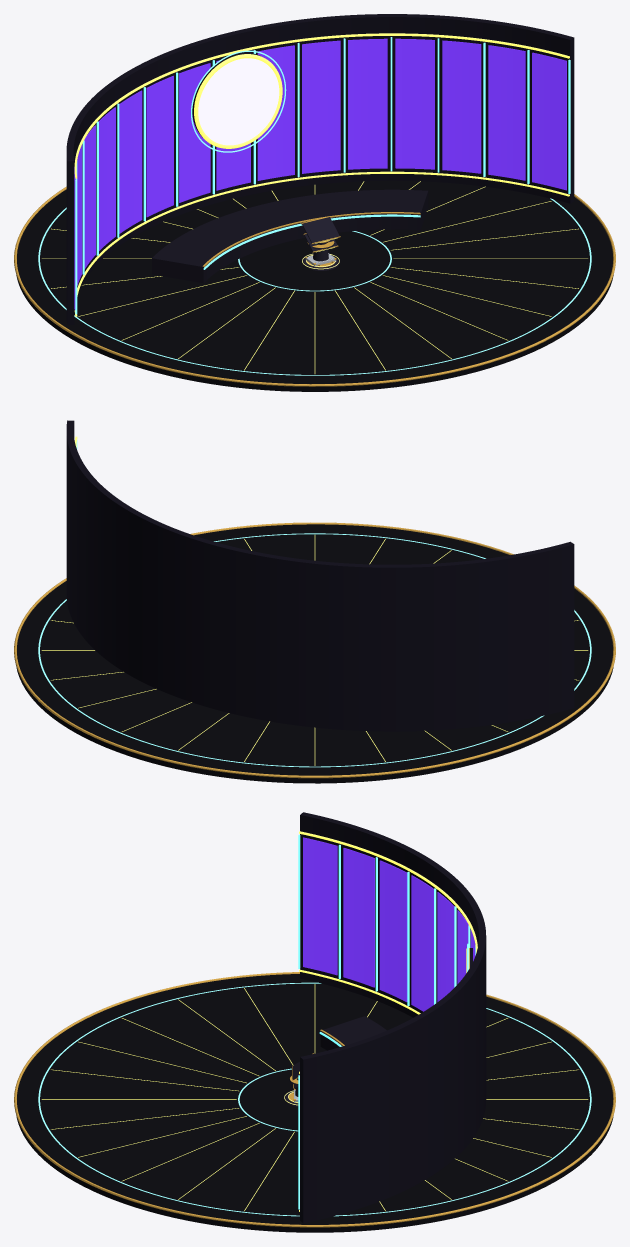
The model's file is dnd.glb.
The picture shows the model from 3 angles, top to bottom: view 1: azimuth 30°, elevation 25°; view 2: azimuth 150°, elevation 25°; view 3: azimuth 270°, elevation 25°; orthographic projection.
Visible parts, largest first — view 1: DND_Floor, DND_Wall, DND_Tier, DND_BigScreen, DND_ScreenFrame, DND_Podium; view 2: DND_Wall, DND_Floor; view 3: DND_Floor, DND_Wall, DND_Tier.
Boxes of the visible parts, bbox=[...] form: DND_Floor: bbox=[14, 180, 615, 391]; DND_Wall: bbox=[66, 14, 574, 324]; DND_Tier: bbox=[152, 189, 428, 283]; DND_BigScreen: bbox=[198, 58, 279, 145]; DND_ScreenFrame: bbox=[191, 50, 286, 152]; DND_Podium: bbox=[301, 216, 340, 270]; DND_Wall: bbox=[66, 420, 574, 731]; DND_Floor: bbox=[14, 522, 615, 783]; DND_Floor: bbox=[14, 972, 615, 1232]; DND_Wall: bbox=[298, 812, 486, 1223]; DND_Tier: bbox=[319, 1016, 386, 1050].
Bounding box in the file's own units: 25.32 × 7.9 × 25.32.
